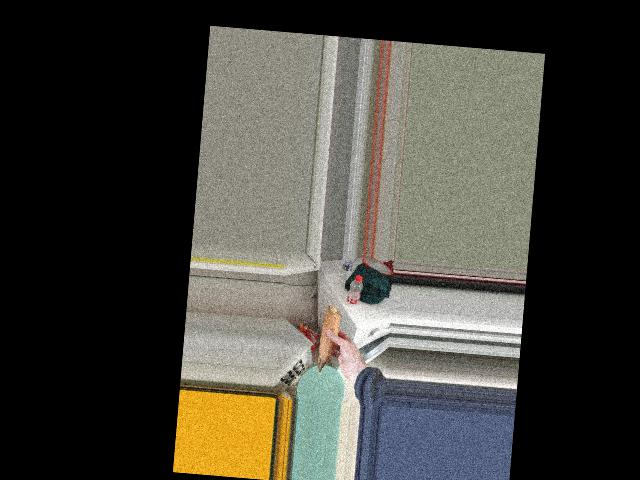sweet_potato: (317, 309, 340, 373)
